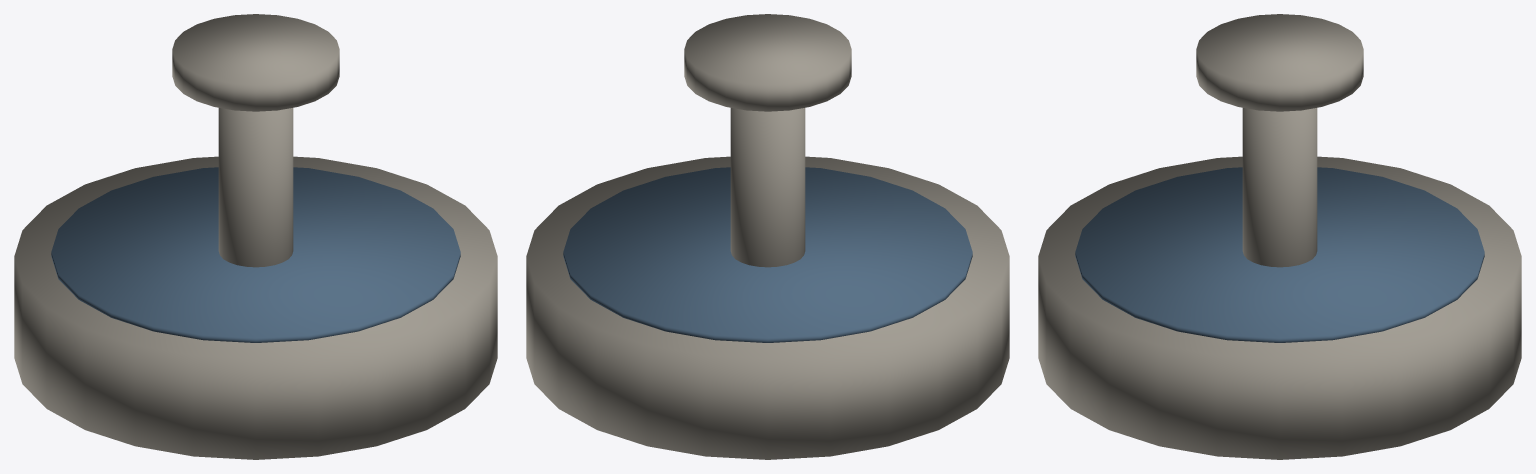
Rendered from SM_Fountain.fbx.
3 views of the same model, side by side, from view 1: azimuth 30°, elevation 25°; view 2: azimuth 150°, elevation 25°; view 3: azimuth 270°, elevation 25° (orthographic).
Parts seen in each view (by area): view 1: Basin, Water, Bowl, Column; view 2: Basin, Water, Bowl, Column; view 3: Basin, Water, Bowl, Column.
Part boxes in pixels (x1=…): Basin: x1=14, y1=156, x2=497, y2=459; Water: x1=51, y1=167, x2=460, y2=342; Bowl: x1=172, y1=14, x2=339, y2=111; Column: x1=218, y1=108, x2=293, y2=267; Basin: x1=526, y1=156, x2=1009, y2=459; Water: x1=563, y1=167, x2=972, y2=342; Bowl: x1=684, y1=14, x2=851, y2=111; Column: x1=730, y1=108, x2=805, y2=267; Basin: x1=1038, y1=156, x2=1521, y2=459; Water: x1=1075, y1=167, x2=1484, y2=342; Bowl: x1=1196, y1=14, x2=1363, y2=111; Column: x1=1242, y1=108, x2=1317, y2=267.
Size of the model in its own units: 2.6 by 1.83 by 2.6.
